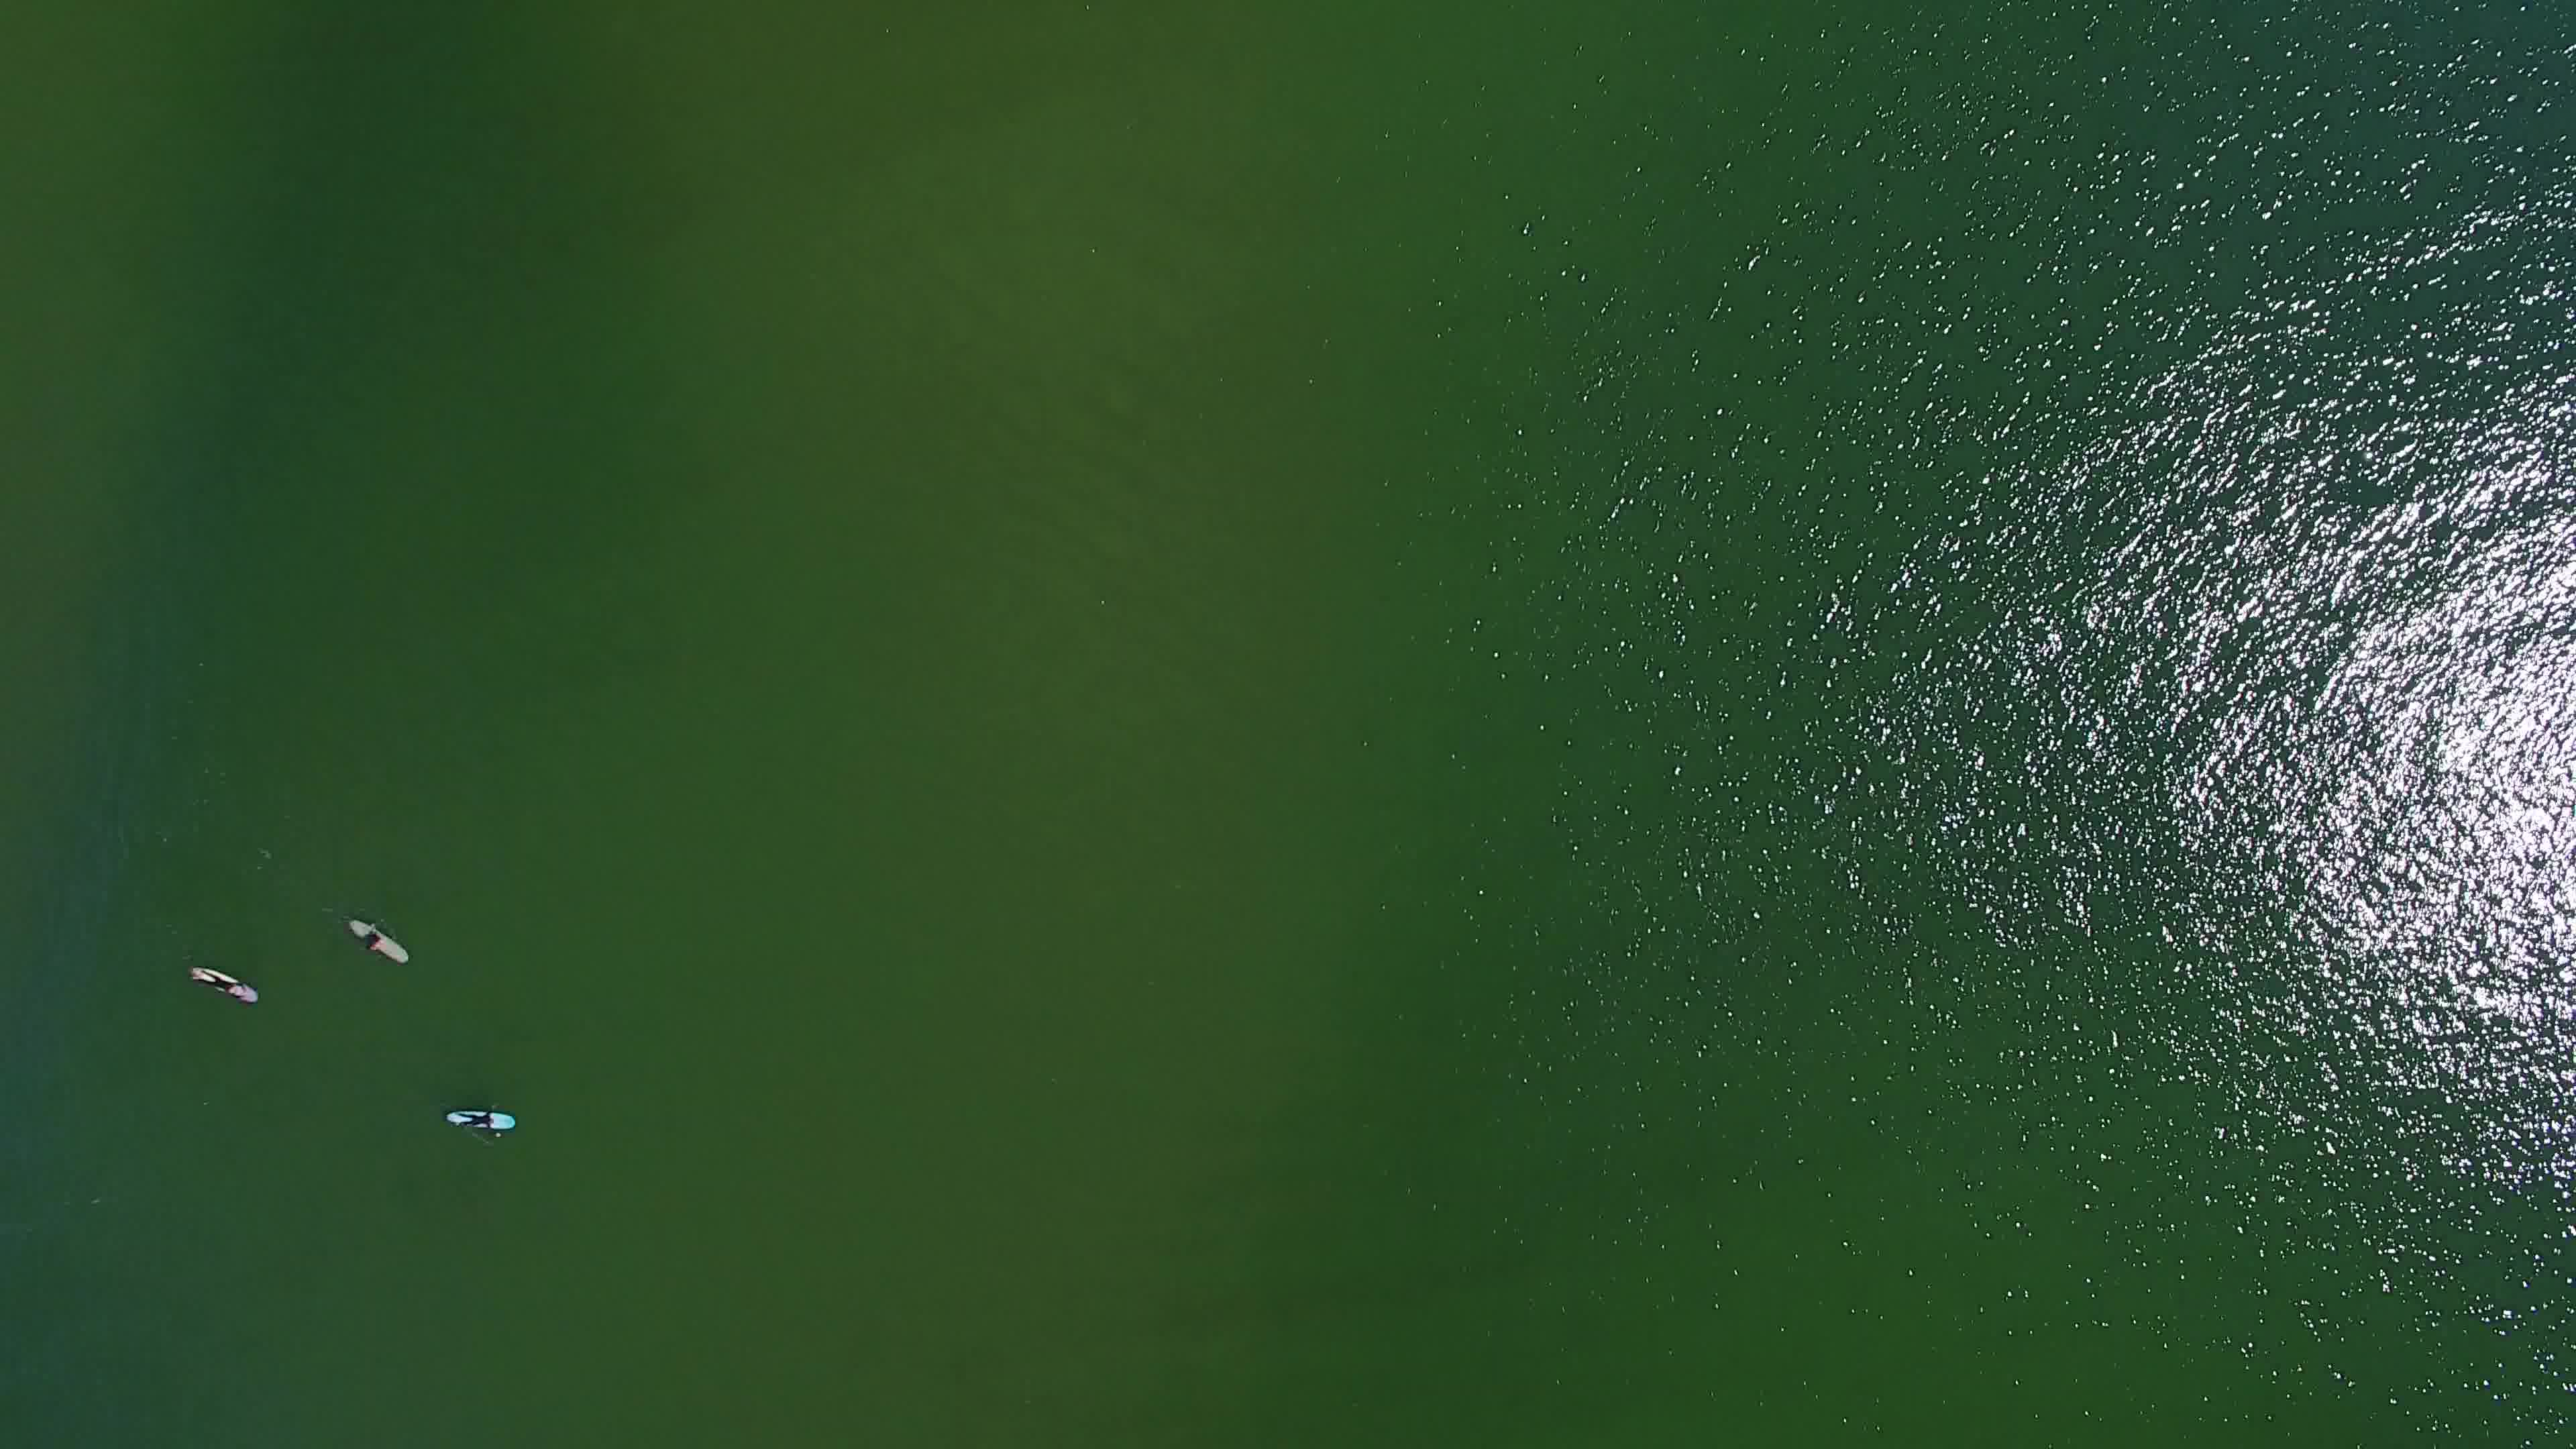surfer: (340, 911, 419, 970), (188, 962, 267, 1012), (441, 1102, 525, 1141)
